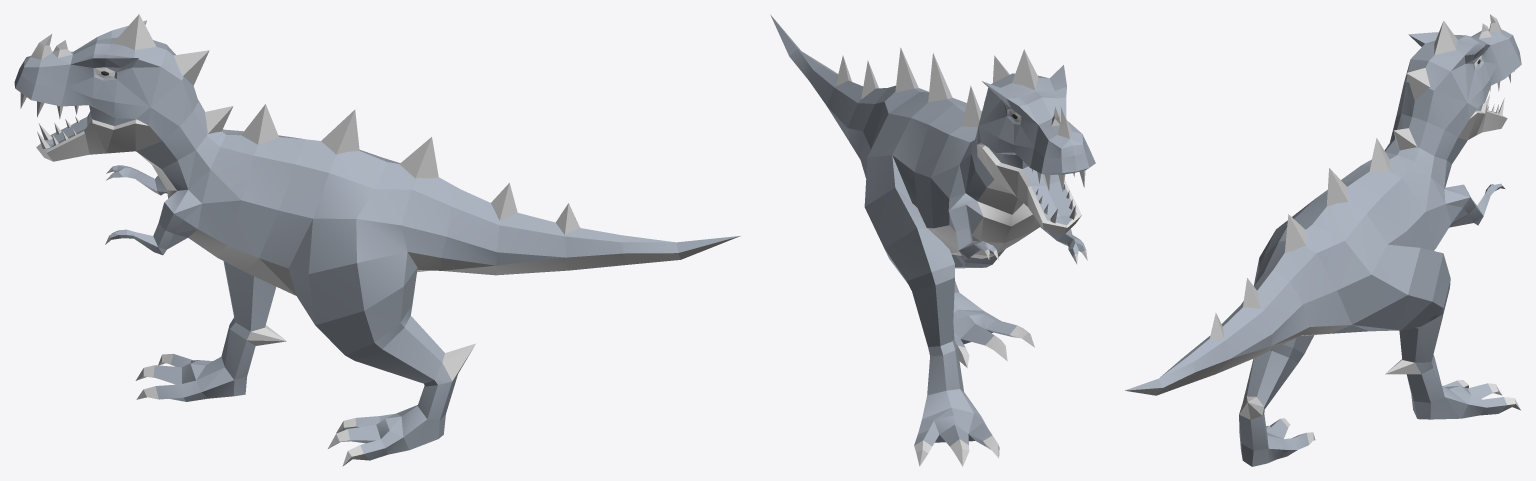
File: zhuangshi_28.FBX
The picture shows the model from 3 angles, left to right: view 1: azimuth 30°, elevation 25°; view 2: azimuth 150°, elevation 25°; view 3: azimuth 270°, elevation 25°; orthographic projection. The views are drawn at different scales.
Parts seen in each view (by area): view 1: zhuangshi_28; view 2: zhuangshi_28; view 3: zhuangshi_28.
Boxes of the visible parts, box(x1,y1,x2,y2) form: zhuangshi_28: box(14, 14, 740, 466); zhuangshi_28: box(770, 14, 1095, 466); zhuangshi_28: box(1125, 14, 1521, 466).
Bounding box in the file's own units: 1999 × 1465 × 1448.
